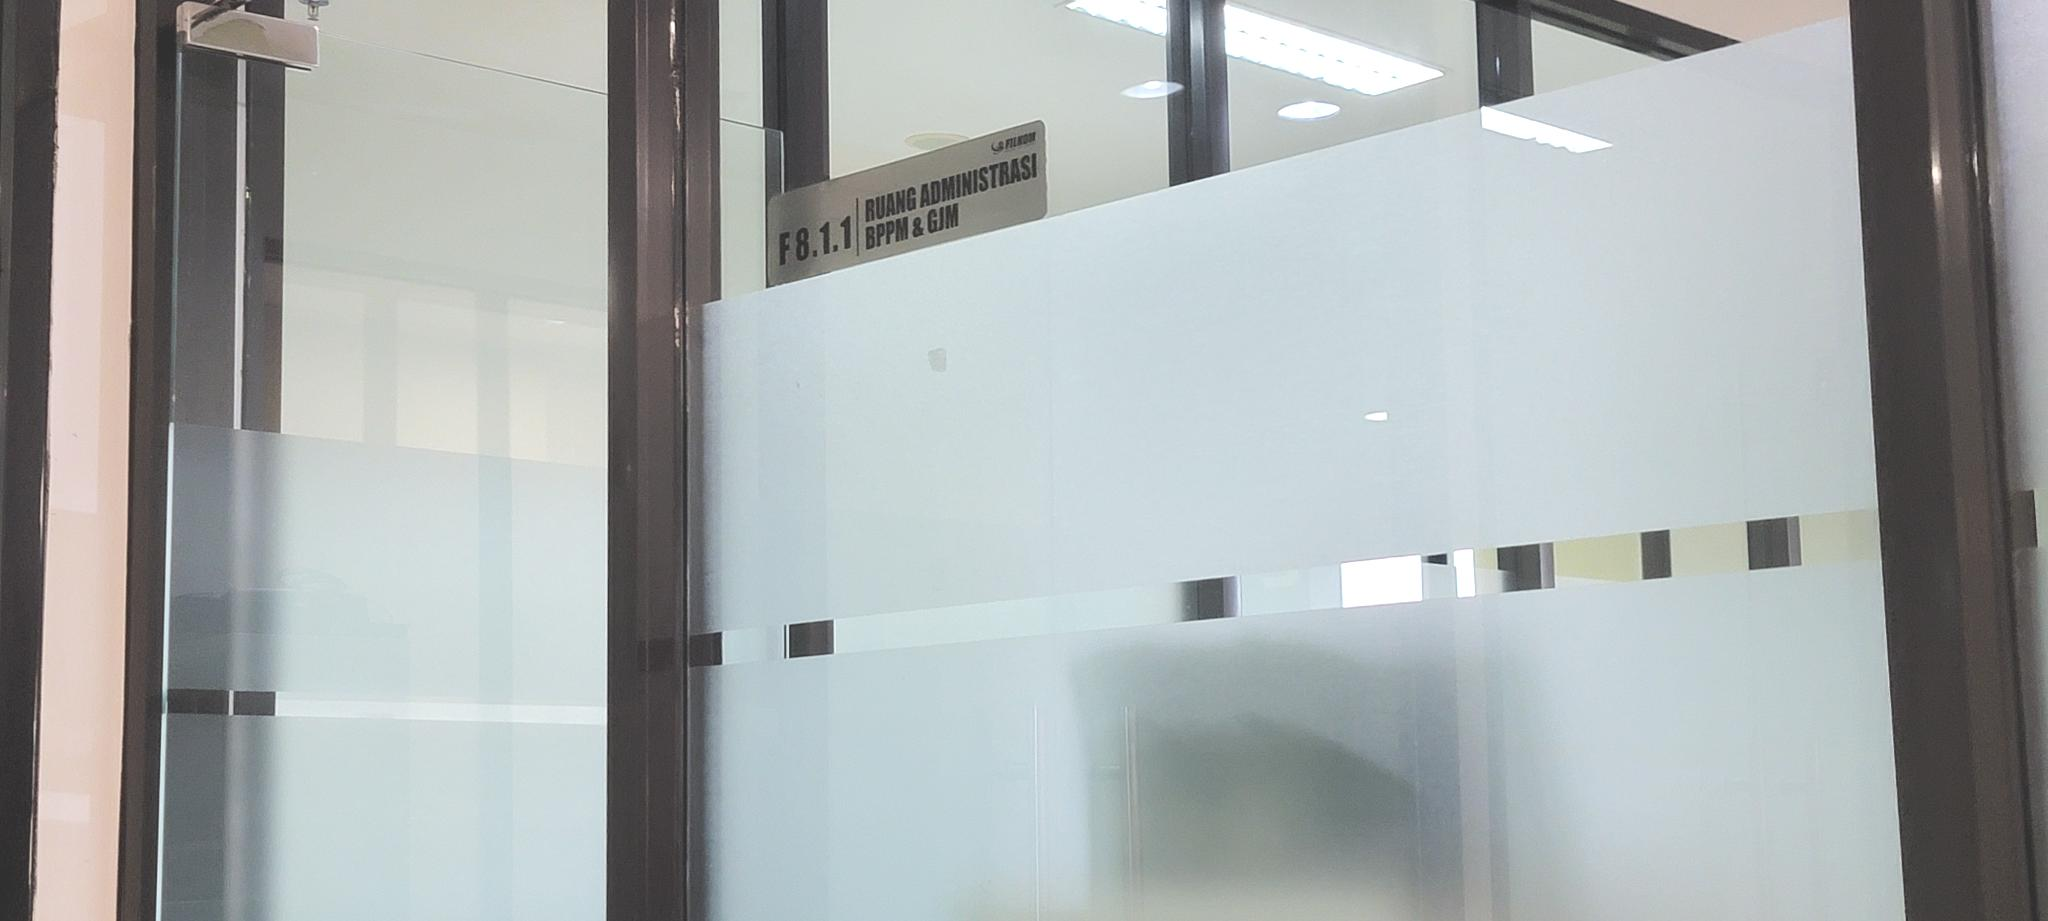plate: (763, 119, 1049, 290)
